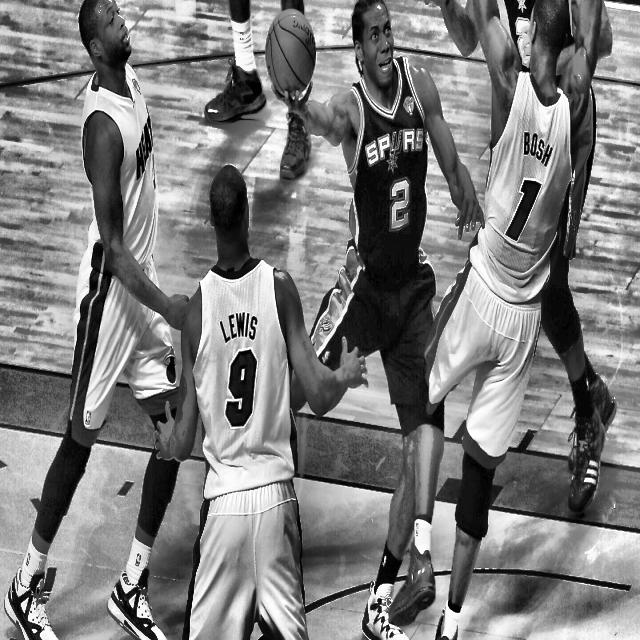Basketball: (266, 8, 316, 94)
